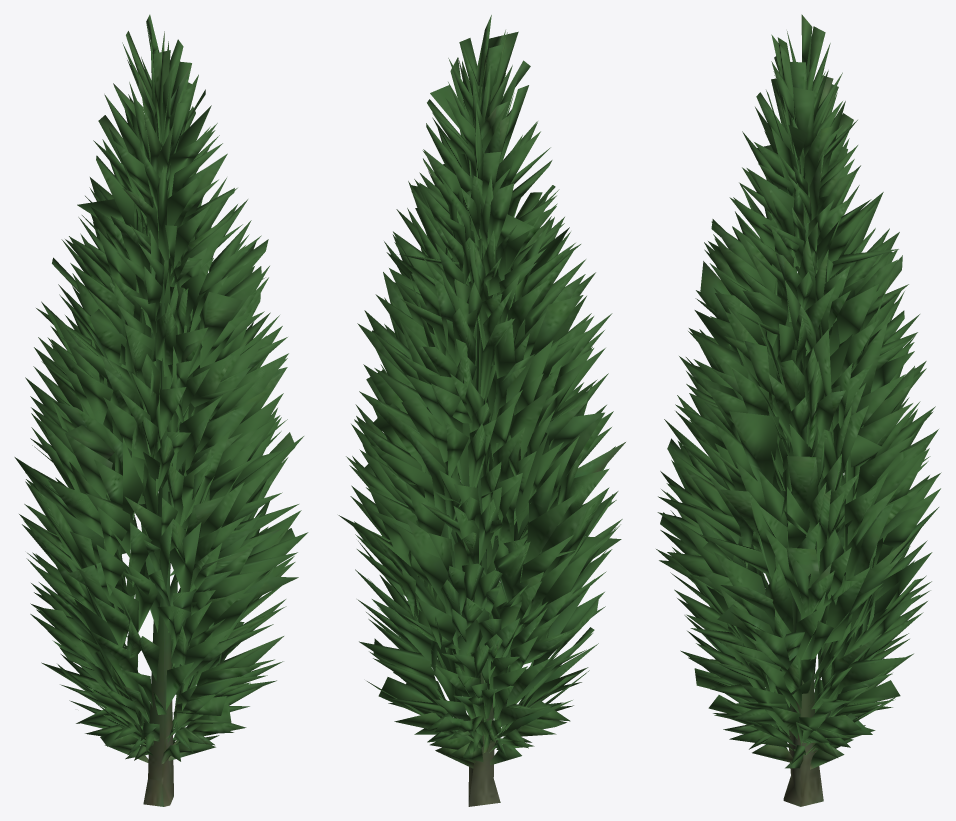
The model's file is arborvitae.glb.
3 renders of one model, left to right at view 1: azimuth 30°, elevation 25°; view 2: azimuth 150°, elevation 25°; view 3: azimuth 270°, elevation 25°, orthographic.
Bounding box in the file's own units: 0.3033 × 0.9477 × 0.3145.
Materials: 1 (1 with a texture image).
